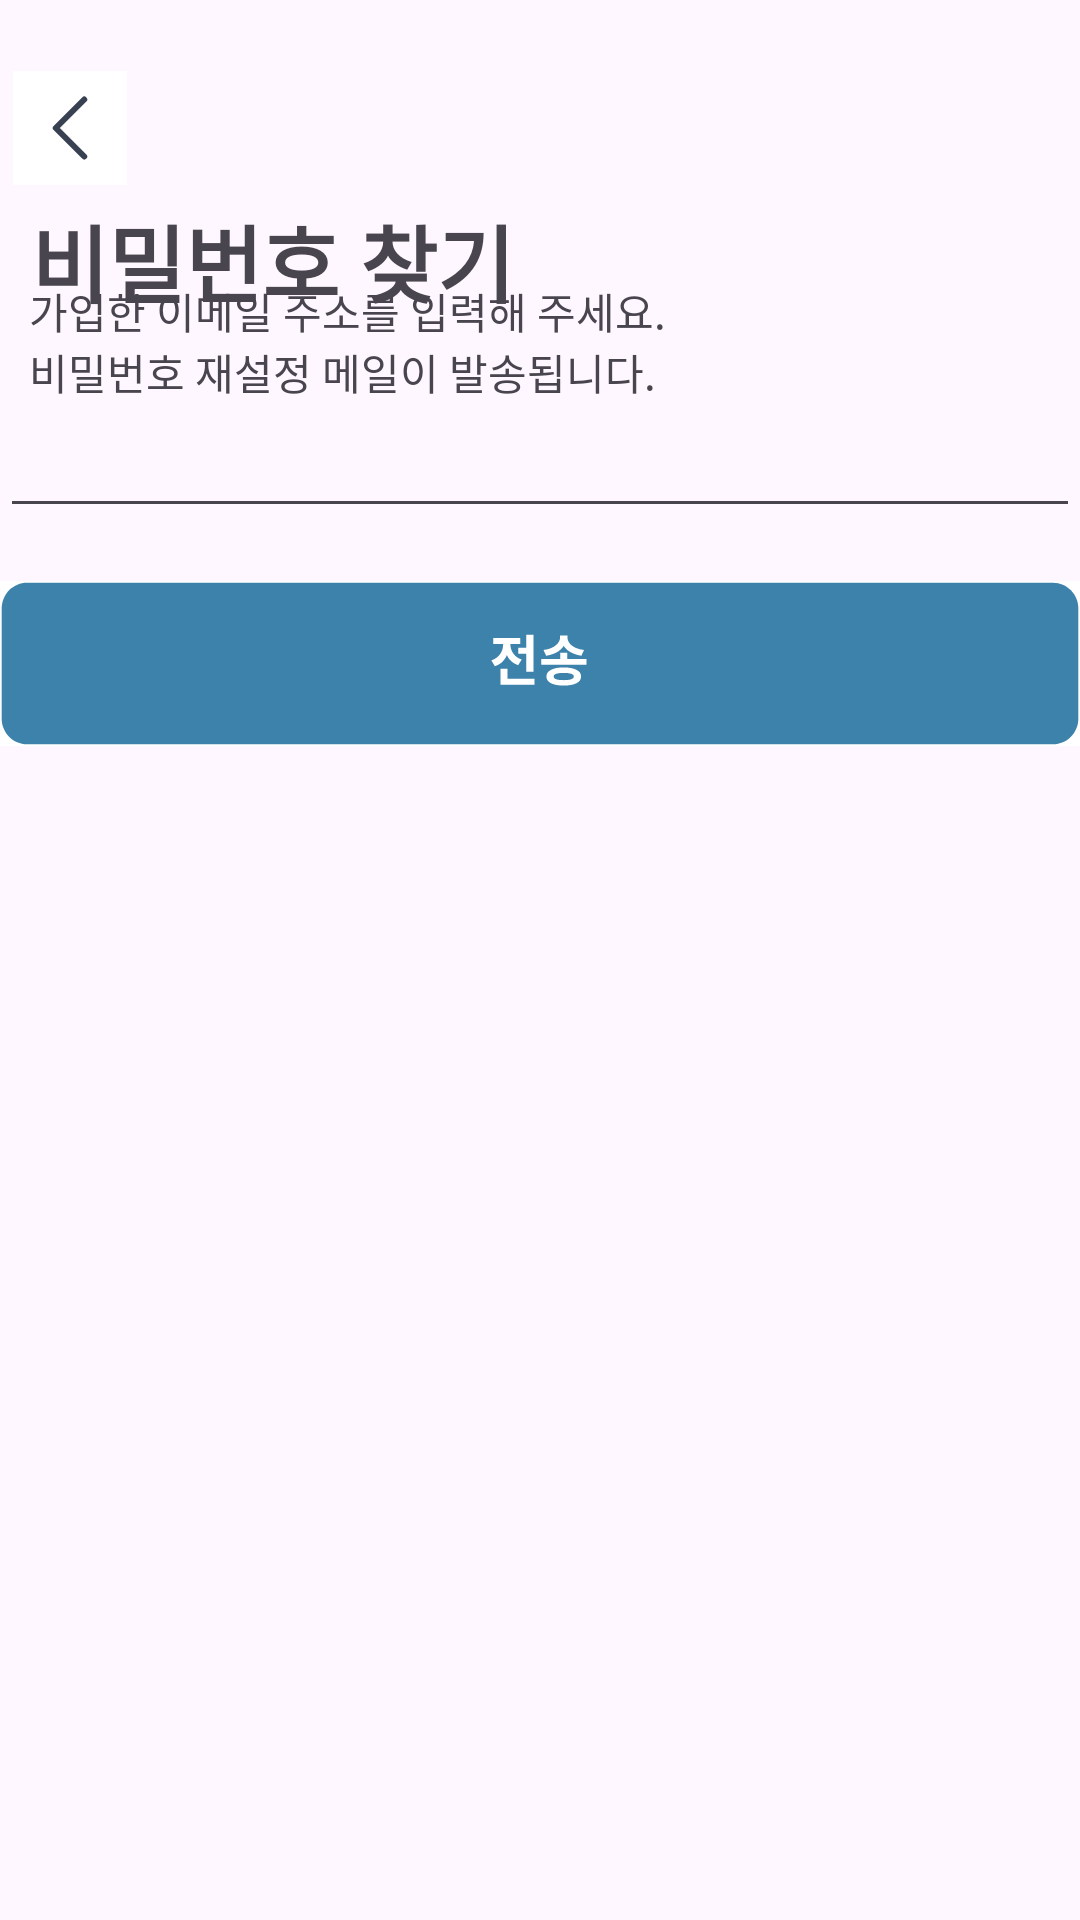

Where icons sit on this 1080 x 1920 app screen, as box=[x1, y1, x2, y2]:
backbtn: box=[52, 96, 88, 160]
